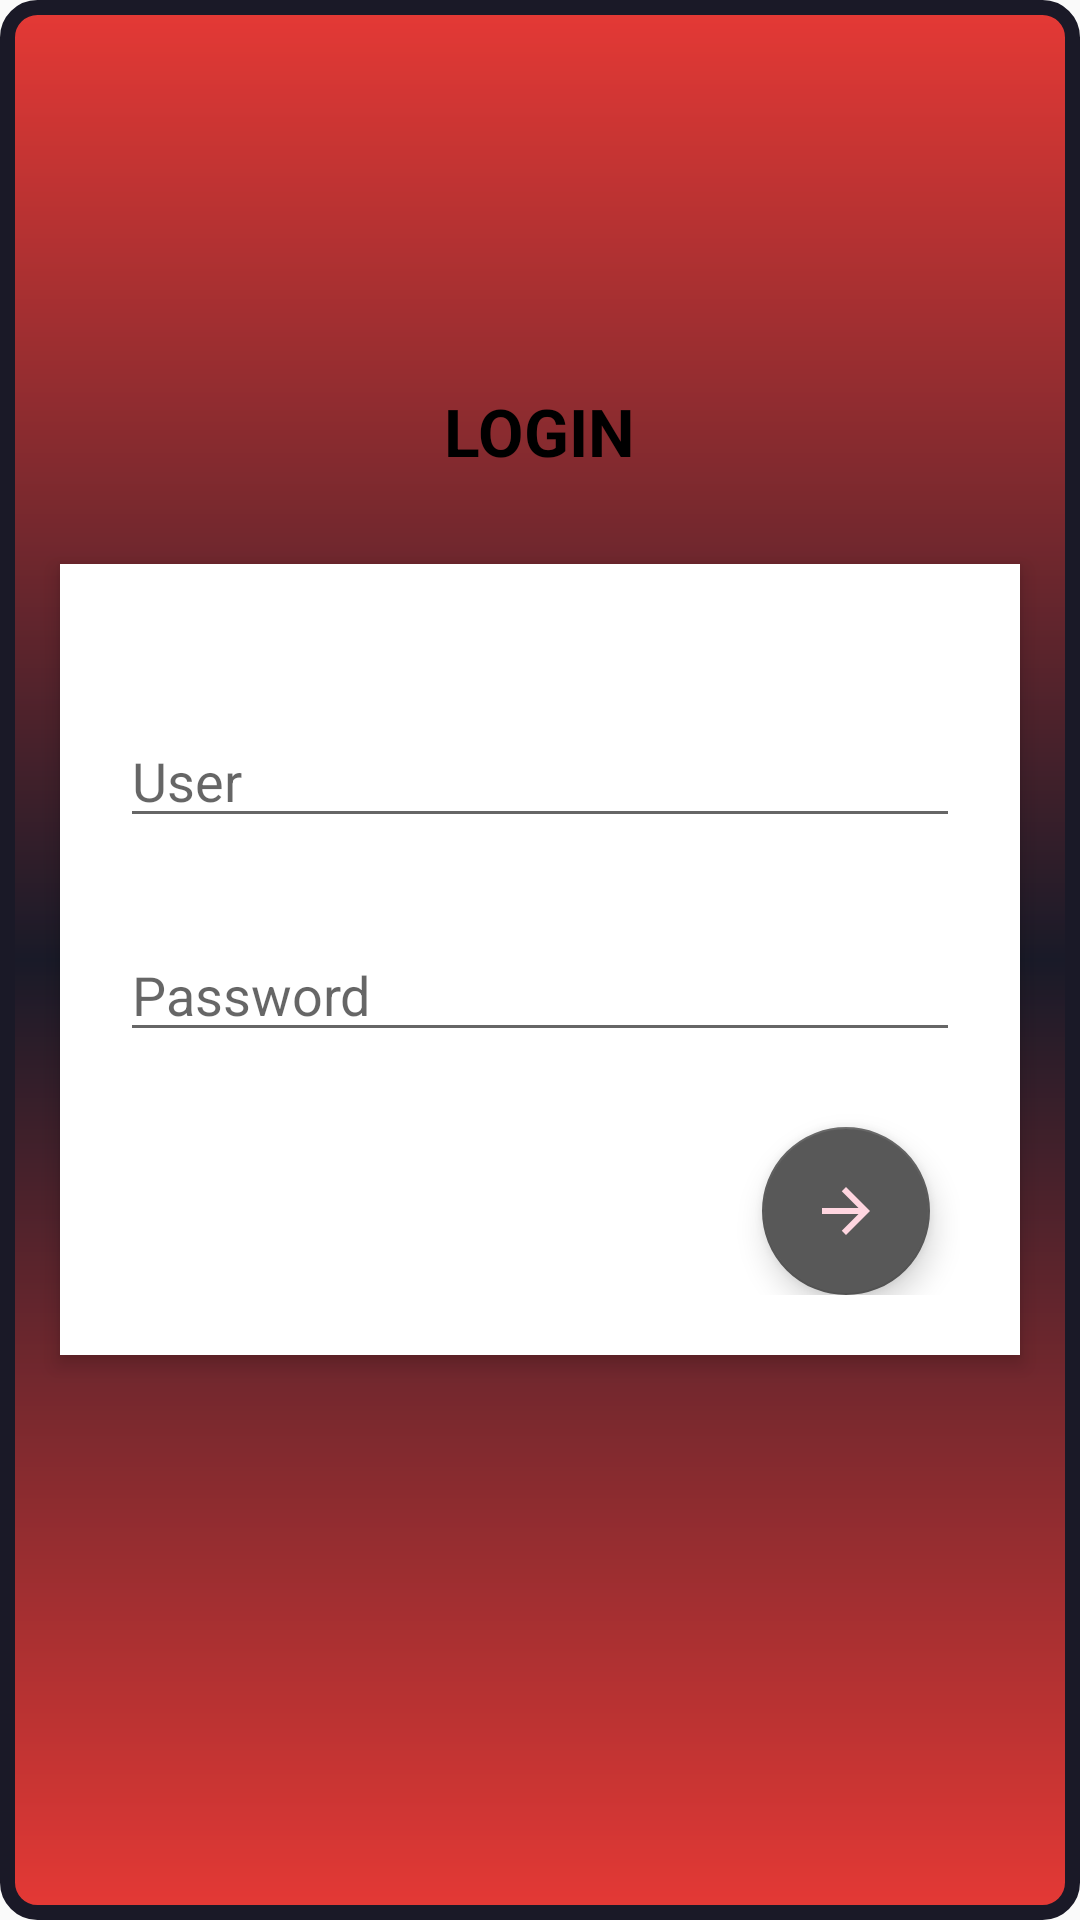

Locate icon controls on the screen. Image size 1080px×1920px, boxes as (x1, y1, x2, y2).
arrow forward: (762, 1127, 930, 1295)
